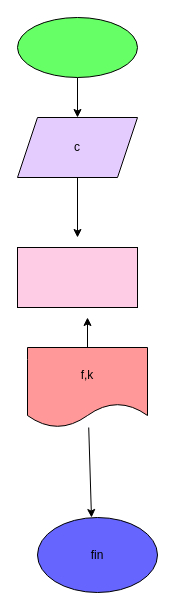
The diagram is 175 pixels wide and 610 high, and some of its shapes have lost their labels. The box of each missing label's shape, as (x1, y1, x2, y2) in pixels:
inicio: (16, 16, 138, 78)
k= c + 2733.15 f = 1.8 * c t 32: (16, 246, 138, 308)
